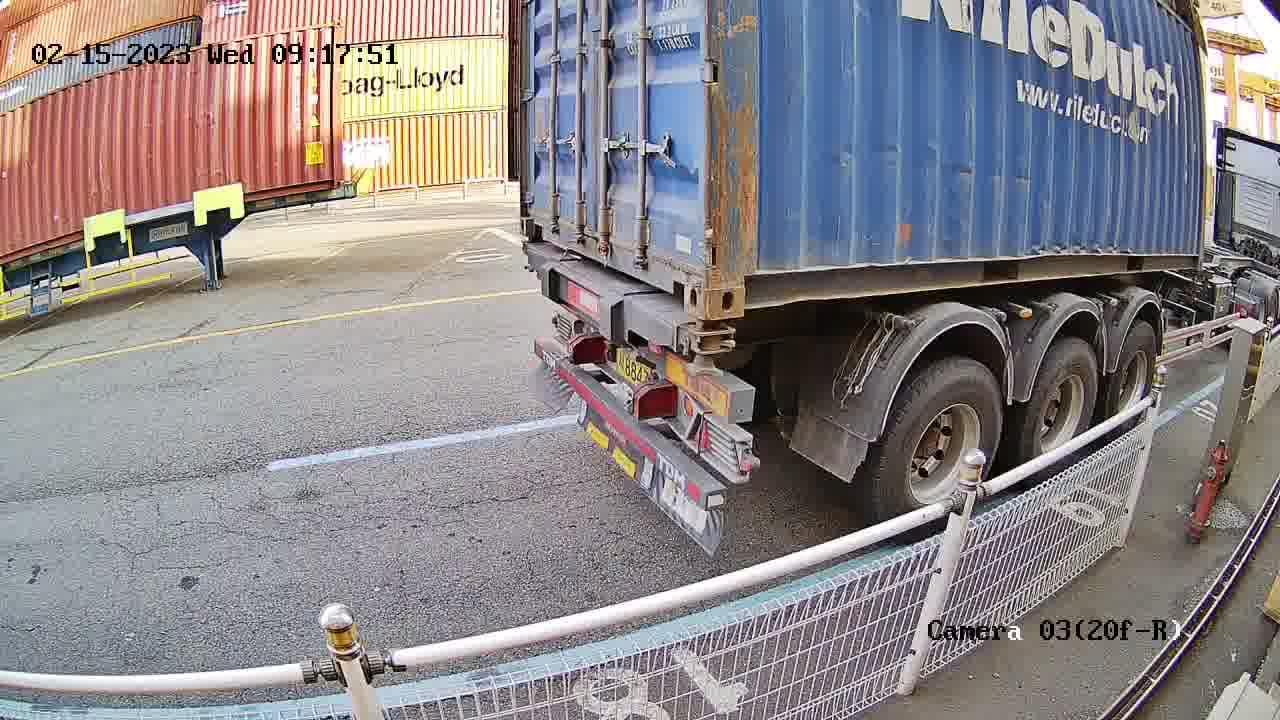Chassis: (522, 245, 692, 356)
Cone: (690, 320, 734, 366)
Hole_L: (707, 227, 786, 320), (518, 191, 559, 244)
Hole_R: (653, 220, 707, 319)
Tire: (869, 360, 1004, 517), (1024, 344, 1099, 458), (1109, 324, 1158, 413)
